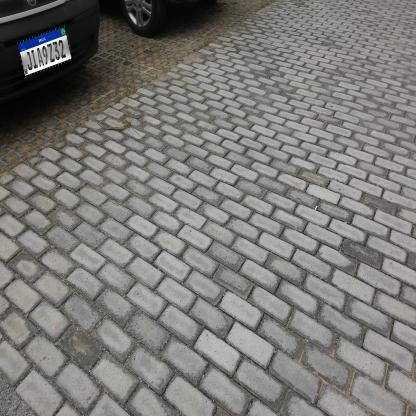PlacaM: (17, 24, 73, 78)
